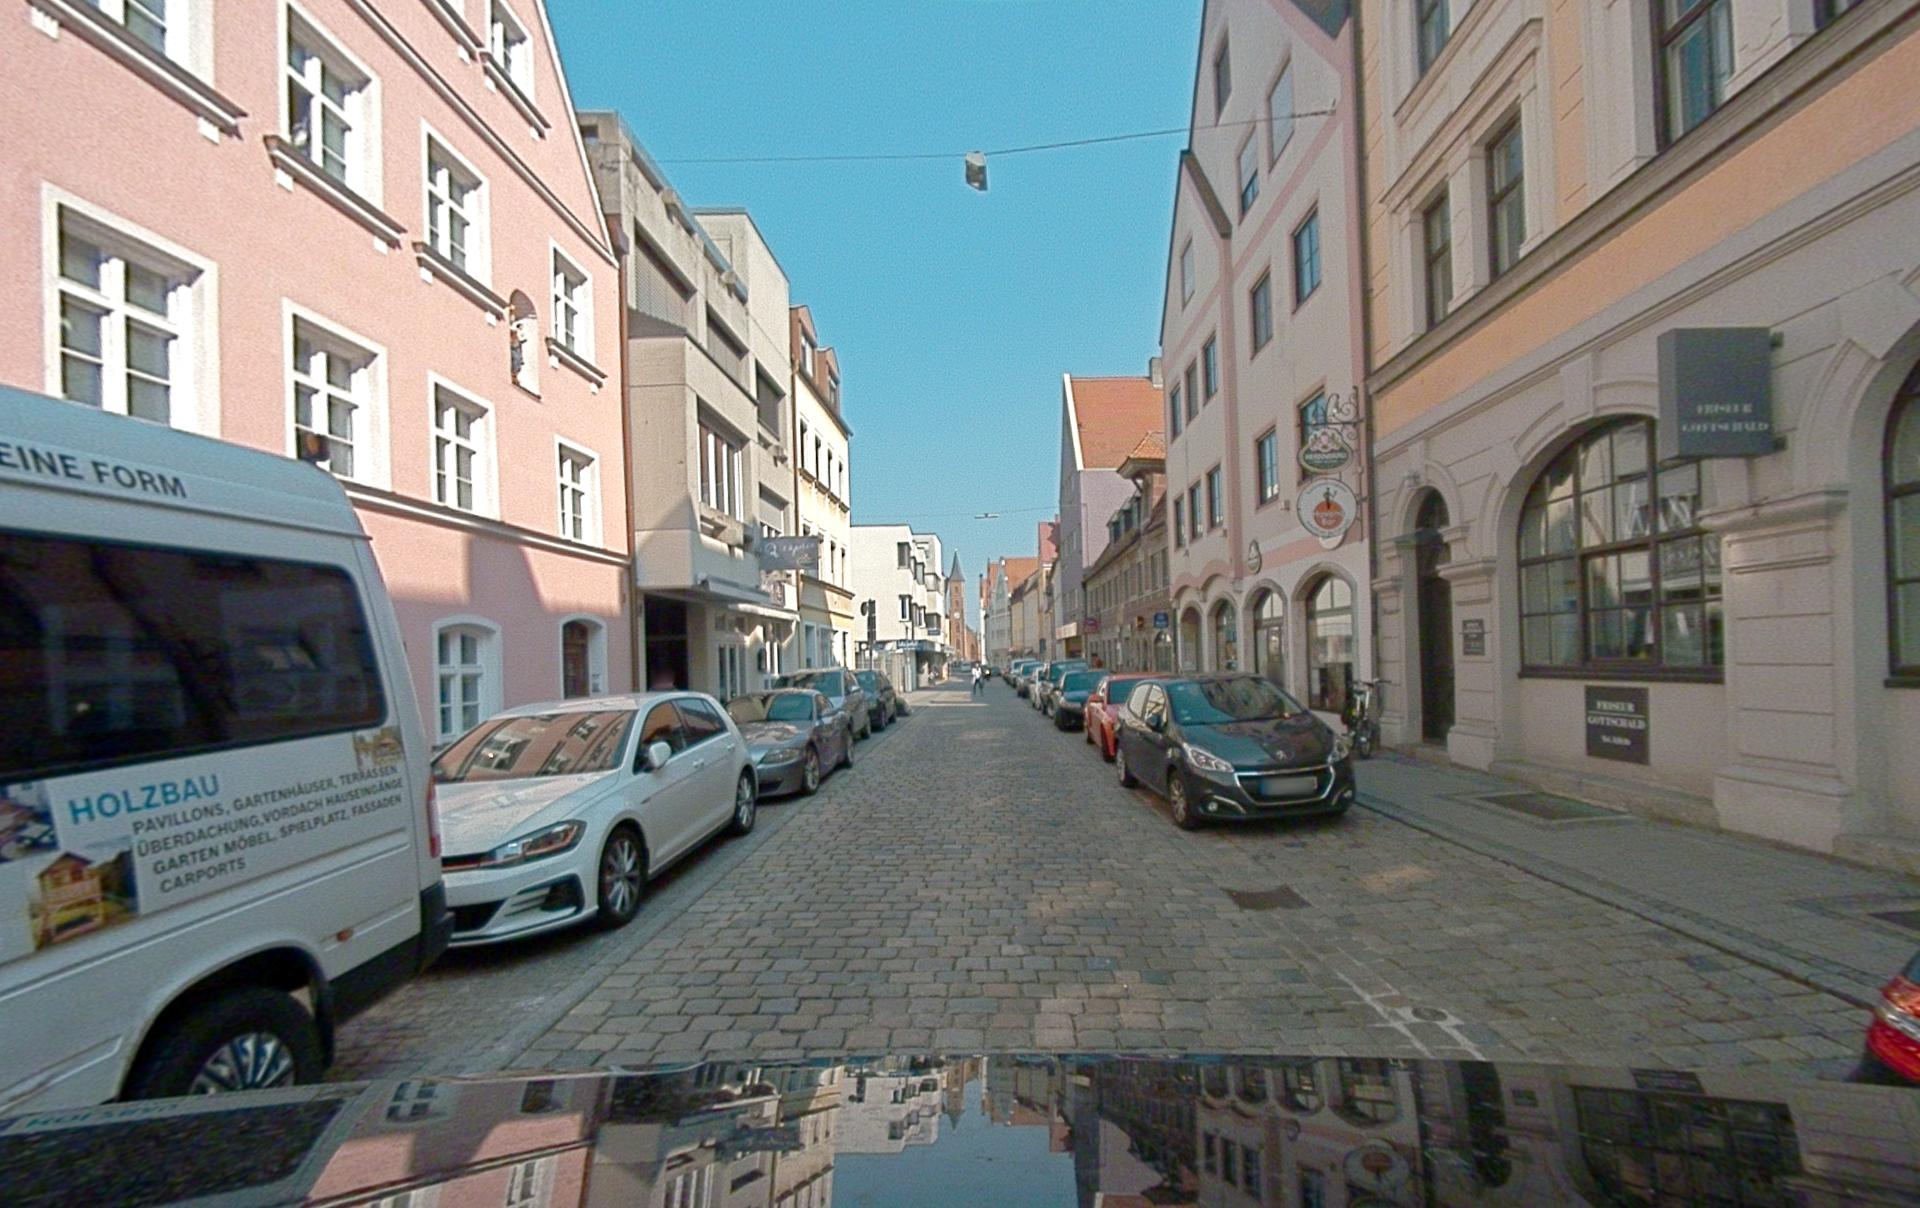car: (433, 692, 756, 943), (1116, 673, 1354, 827), (727, 689, 853, 794), (1855, 952, 1919, 1084), (1083, 672, 1167, 761), (772, 667, 870, 737), (1052, 669, 1107, 730), (1031, 659, 1086, 713), (855, 669, 896, 729), (1016, 660, 1041, 697)
motorcycle: (1341, 679, 1384, 758)
